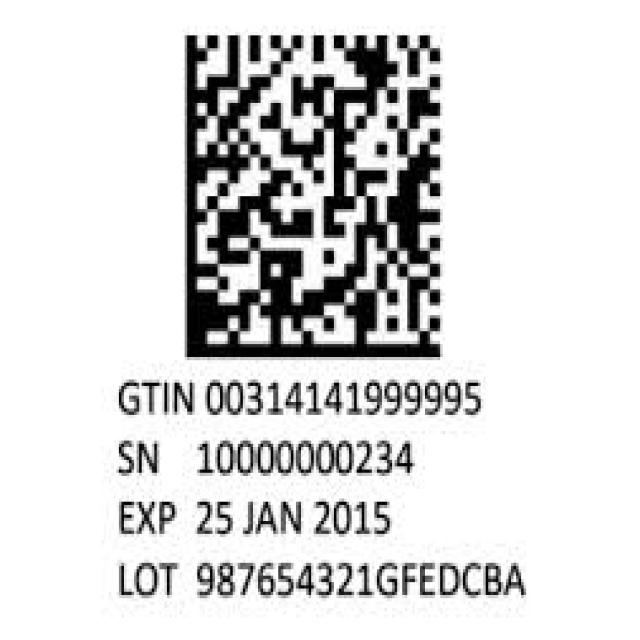datamatrix: (172, 19, 450, 367)
